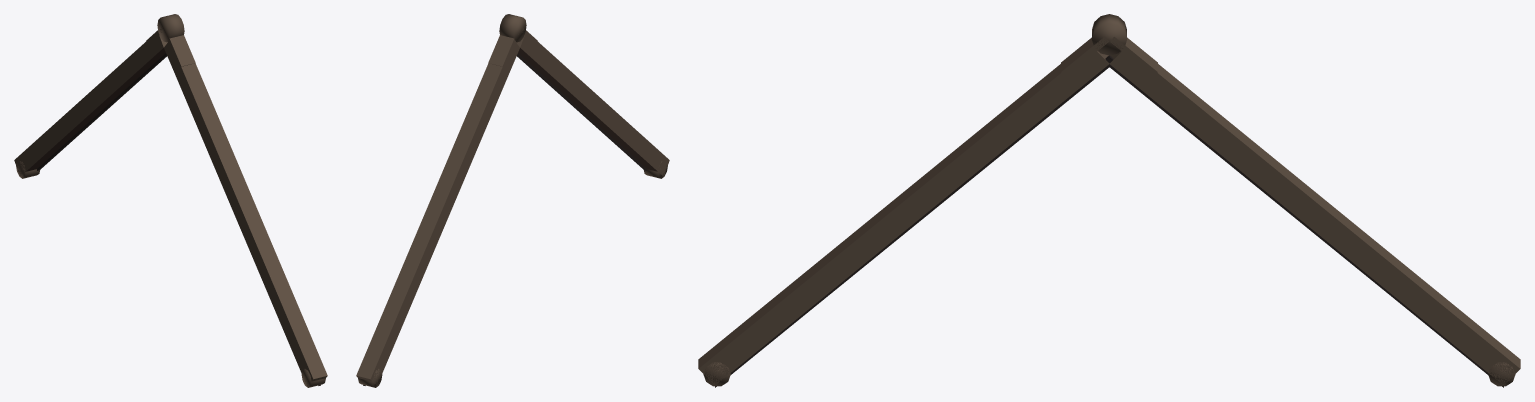
Rendered from kit_timber_thatch_w7_end.glb.
3 renders of one model, left to right at view 1: azimuth 30°, elevation 25°; view 2: azimuth 150°, elevation 25°; view 3: azimuth 270°, elevation 25°, orthographic. The views are drawn at different scales.
Parts seen in each view (by area): view 1: kit_timber_thatch_w7_end; view 2: kit_timber_thatch_w7_end; view 3: kit_timber_thatch_w7_end.
Part boxes in pixels (bbox=[...]): kit_timber_thatch_w7_end: bbox=[14, 14, 327, 387]; kit_timber_thatch_w7_end: bbox=[356, 14, 669, 387]; kit_timber_thatch_w7_end: bbox=[698, 14, 1520, 387].
Bounding box in the file's own units: 0.22 × 3.88 × 7.92.
